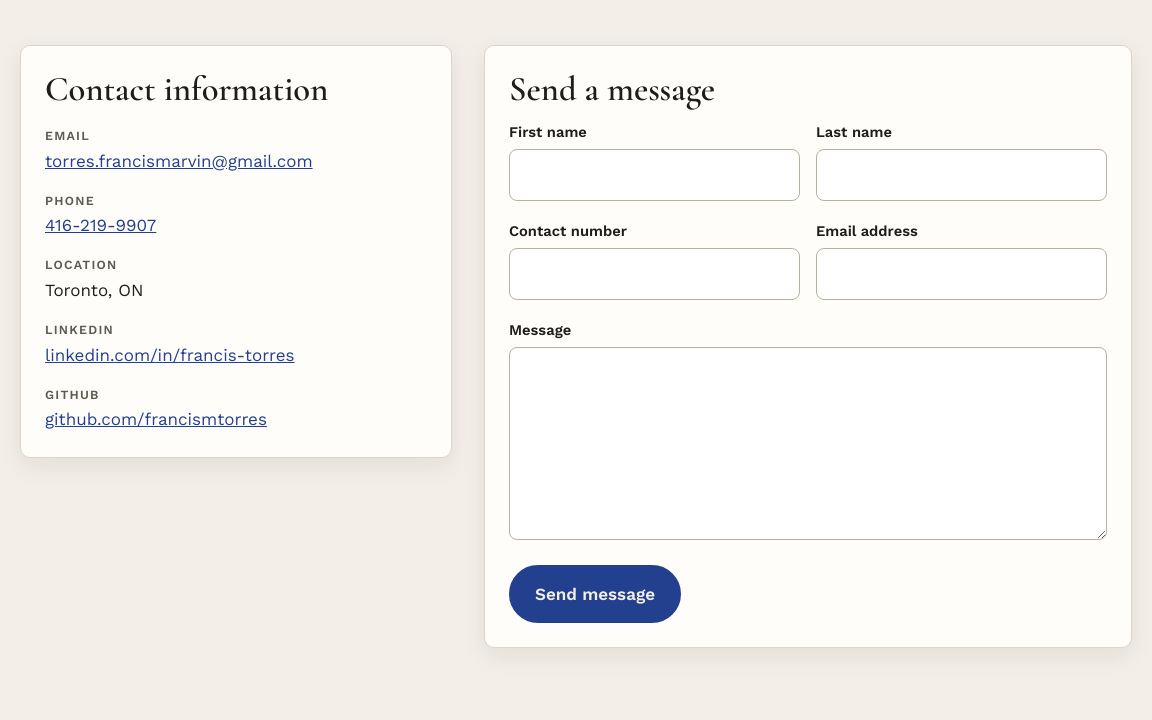
Test: Contact page form › shows an error for every required field when submitted empty
(page scrolled)
What coordinates should you click on to do the following:
click the button "Send message"
I would click on:
 (595, 594)
Its box is x1=509 y1=565 x2=681 y2=623.
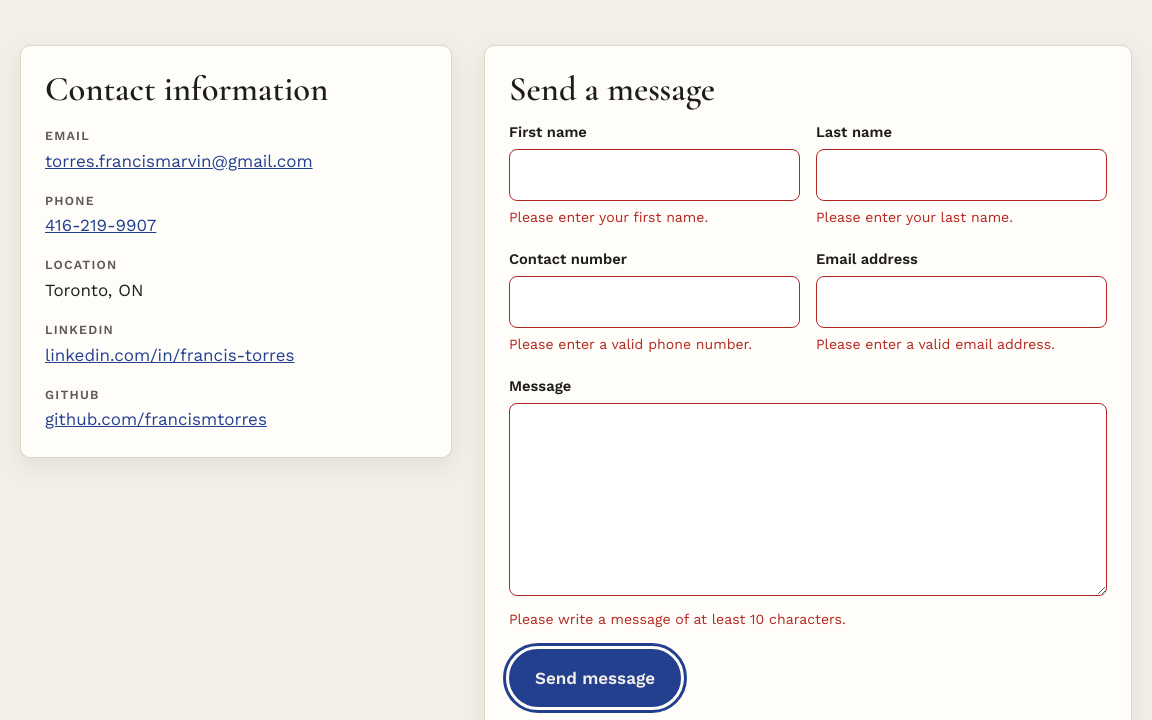
expect the text "Please enter your first name." is shown: met, box x1=509 y1=209 x2=708 y2=225
expect the text "Please enter your last name." is shown: met, box x1=816 y1=209 x2=1013 y2=225
expect the text "Please enter a valid phone number." is shown: met, box x1=509 y1=336 x2=752 y2=352
